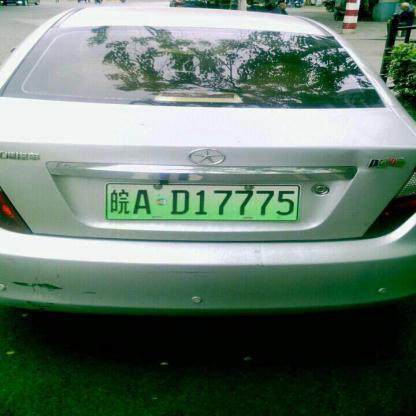lp: (108, 184, 298, 219)
